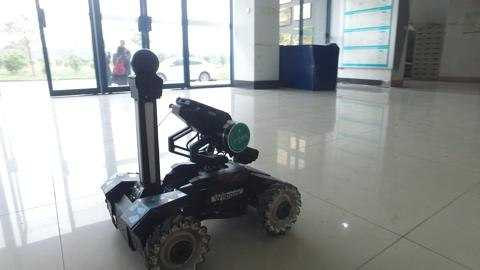chariot: (93, 44, 319, 270)
